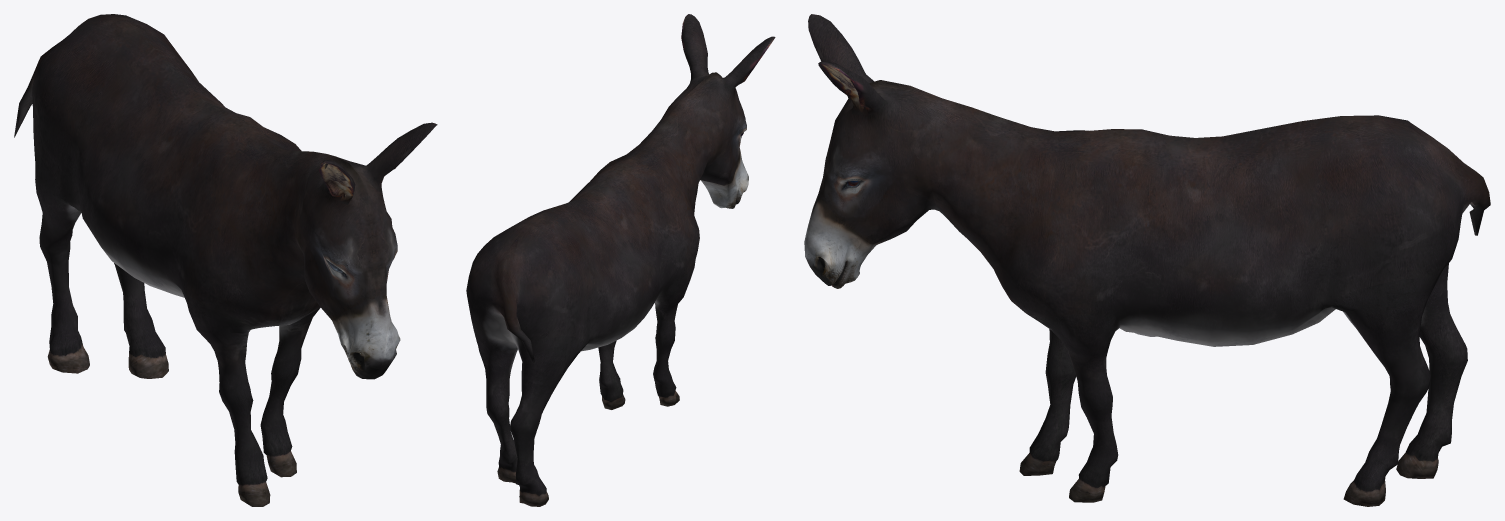
File: donkey.obj
3 renders of one model, left to right at view 1: azimuth 30°, elevation 25°; view 2: azimuth 150°, elevation 25°; view 3: azimuth 270°, elevation 25°, orthographic. The views are drawn at different scales.
Visible parts, largest first — view 1: _000_SK_Donkey; view 2: _000_SK_Donkey; view 3: _000_SK_Donkey.
Boxes of the visible parts, x1,y1,x2,y2 form: _000_SK_Donkey: [14, 14, 437, 506]; _000_SK_Donkey: [466, 14, 775, 506]; _000_SK_Donkey: [804, 14, 1490, 506].
Bounding box in the file's own units: 33.32 × 82.26 × 114.
